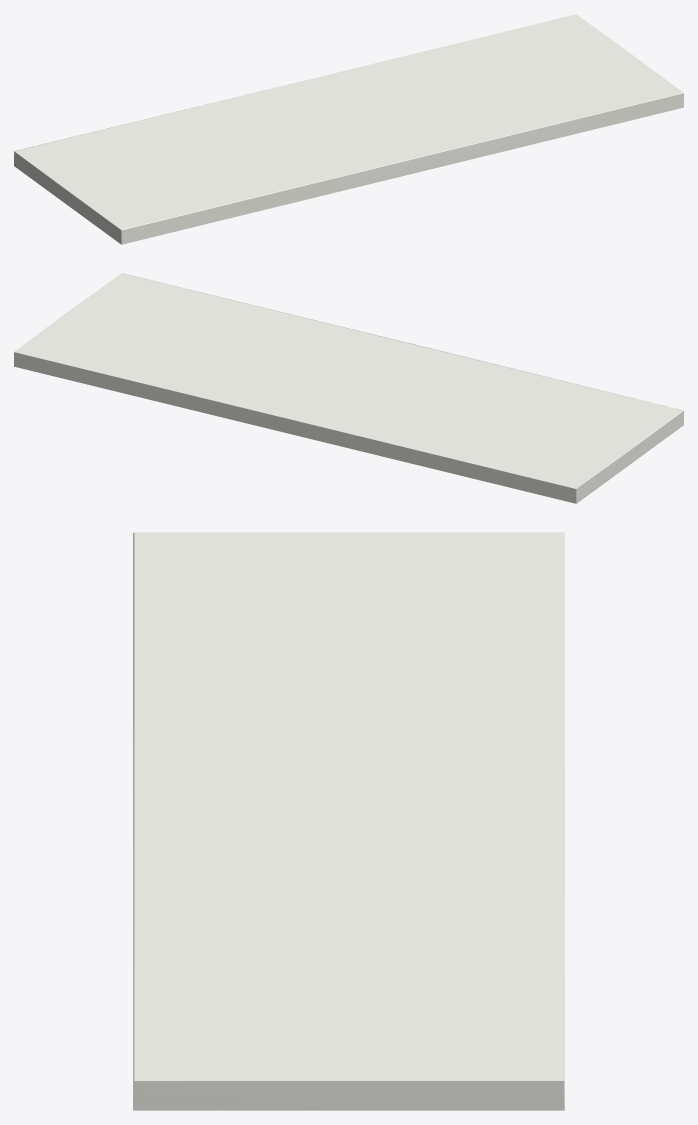
The picture shows the model from 3 angles, top to bottom: view 1: azimuth 30°, elevation 25°; view 2: azimuth 150°, elevation 25°; view 3: azimuth 270°, elevation 25°; orthographic projection. The views are drawn at different scales.
Parts seen in each view (by area): view 1: model; view 2: model; view 3: model.
Part boxes in pixels (bbox=[...]): model: bbox=[14, 14, 683, 244]; model: bbox=[14, 273, 683, 503]; model: bbox=[133, 532, 564, 1110].
Size of the model in its own units: 0.588 by 0.0149 by 0.1951.
1 material, 1 textured.
